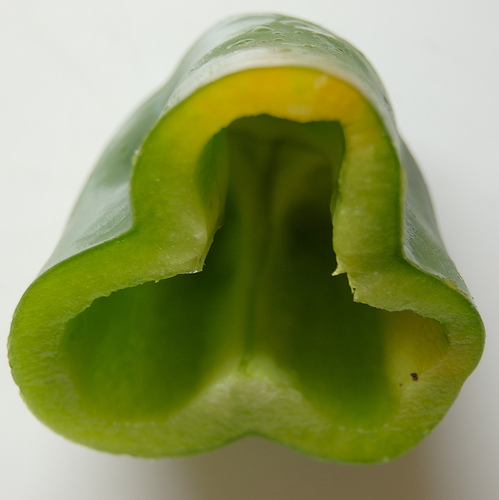capsicum: (5, 15, 486, 467)
